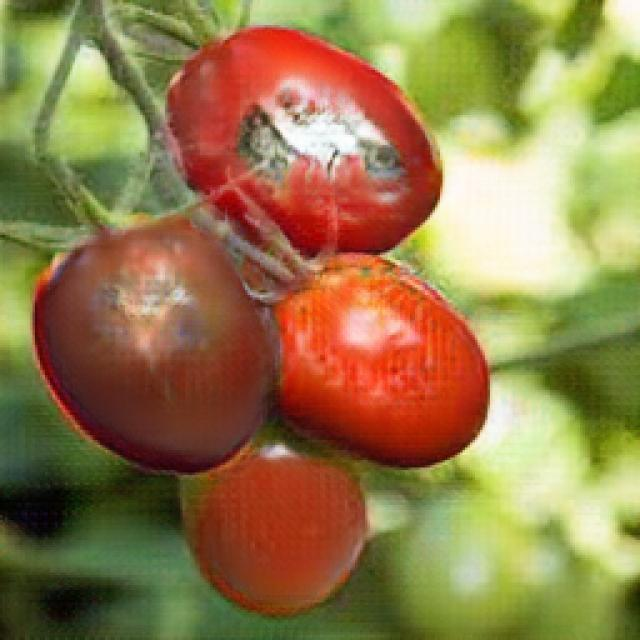overripe tomato: (165, 23, 443, 253), (30, 216, 276, 474), (271, 265, 491, 468)
